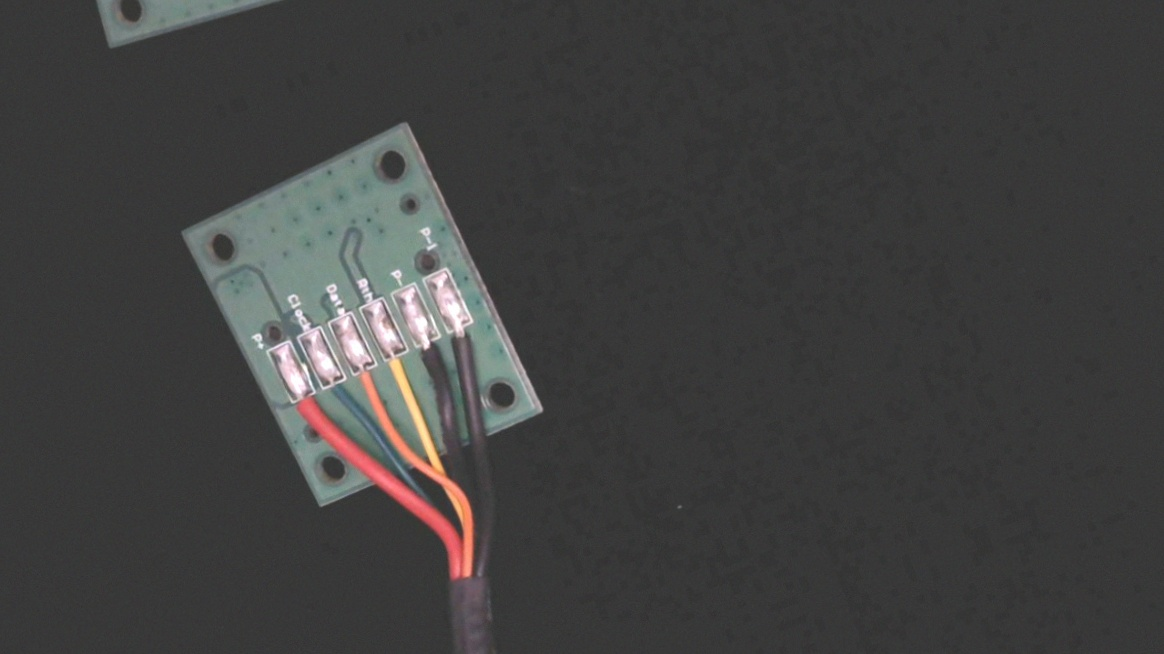Black: (409, 325, 455, 390)
Black1: (441, 311, 489, 376)
Green: (314, 366, 363, 419)
Orange: (345, 354, 391, 410)
Red: (281, 380, 330, 431)
Yellow: (377, 338, 423, 398)
